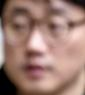without_mask: (1, 1, 85, 95)
